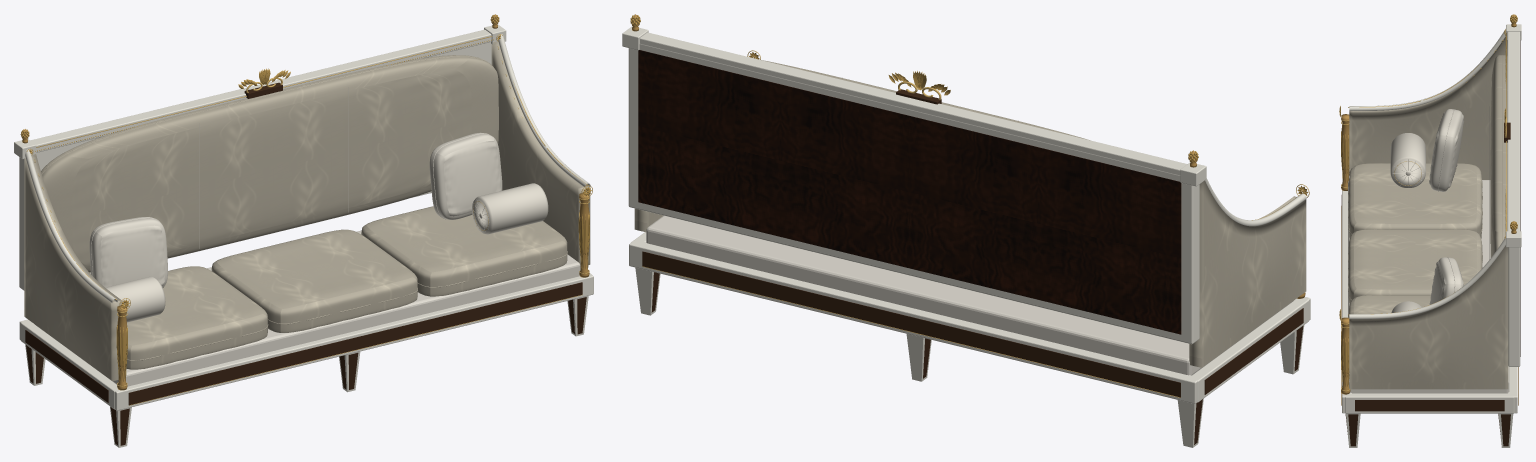
The picture shows the model from 3 angles, left to right: view 1: azimuth 30°, elevation 25°; view 2: azimuth 150°, elevation 25°; view 3: azimuth 270°, elevation 25°; orthographic projection. The views are drawn at different scales.
Parts seen in each view (by area): view 1: Belgravia three-seat sofa | 50036.0 | living-1 web batch; view 2: Belgravia three-seat sofa | 50036.0 | living-1 web batch; view 3: Belgravia three-seat sofa | 50036.0 | living-1 web batch.
Part boxes in pixels (<box>): Belgravia three-seat sofa | 50036.0 | living-1 web batch: <box>14,14,593,447</box>; Belgravia three-seat sofa | 50036.0 | living-1 web batch: <box>622,14,1310,447</box>; Belgravia three-seat sofa | 50036.0 | living-1 web batch: <box>1339,14,1521,447</box>.
Size of the model in its own units: 2.21 by 1.13 by 0.8.
Materials: 9 (2 with a texture image).
